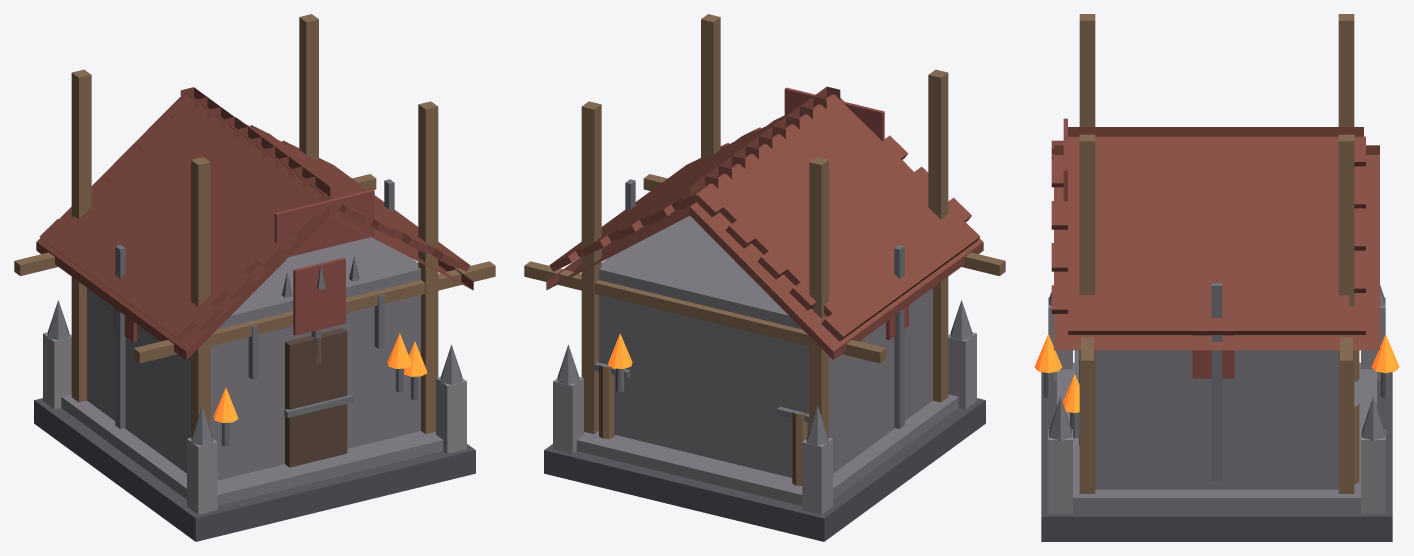
Rendered from barracks.glb.
The picture shows the model from 3 angles, left to right: view 1: azimuth 30°, elevation 25°; view 2: azimuth 150°, elevation 25°; view 3: azimuth 270°, elevation 25°; orthographic projection. The views are drawn at different scales.
Parts seen in each view (by area): view 1: Barracks; view 2: Barracks; view 3: Barracks.
Boxes of the visible parts, x1,y1,x2,y2 form: Barracks: (14,14,495,541); Barracks: (524,14,1005,541); Barracks: (1034,14,1399,541).
Bounding box in the file's own units: 5.08 × 4.9 × 4.16.
